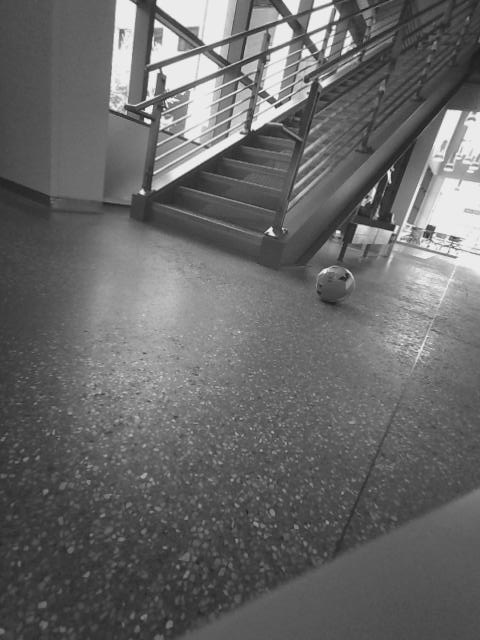ball: (312, 263, 359, 306)
